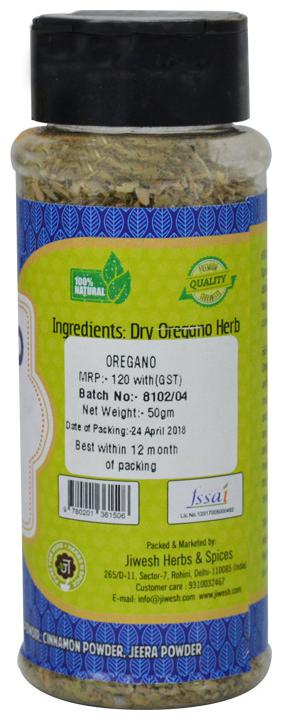fssai: (184, 481, 234, 507)
